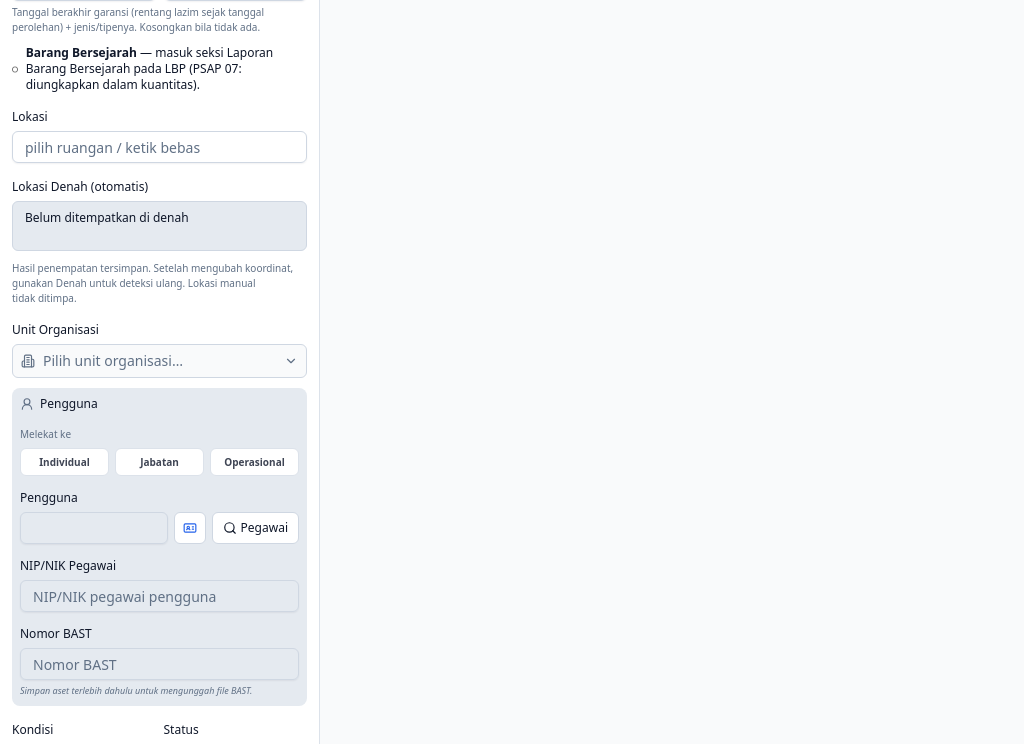
pemicunya ikut menyebut yang baru dipilih
This screenshot has width=1024, height=744.
(page scrolled)
Click the button with test id "asset-unit-pemicu".
click(160, 361)  # box [12,344,307,378]
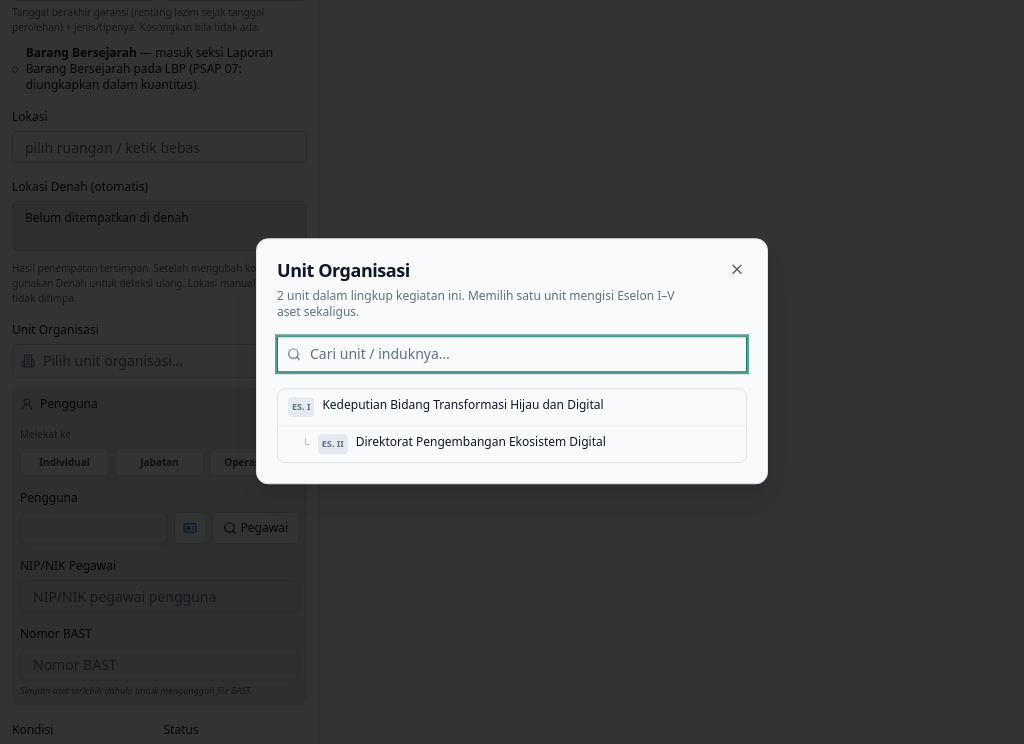
Click the button with test id "asset-unit-opsi-k2".
click(512, 407)  # box [278,389,746,425]
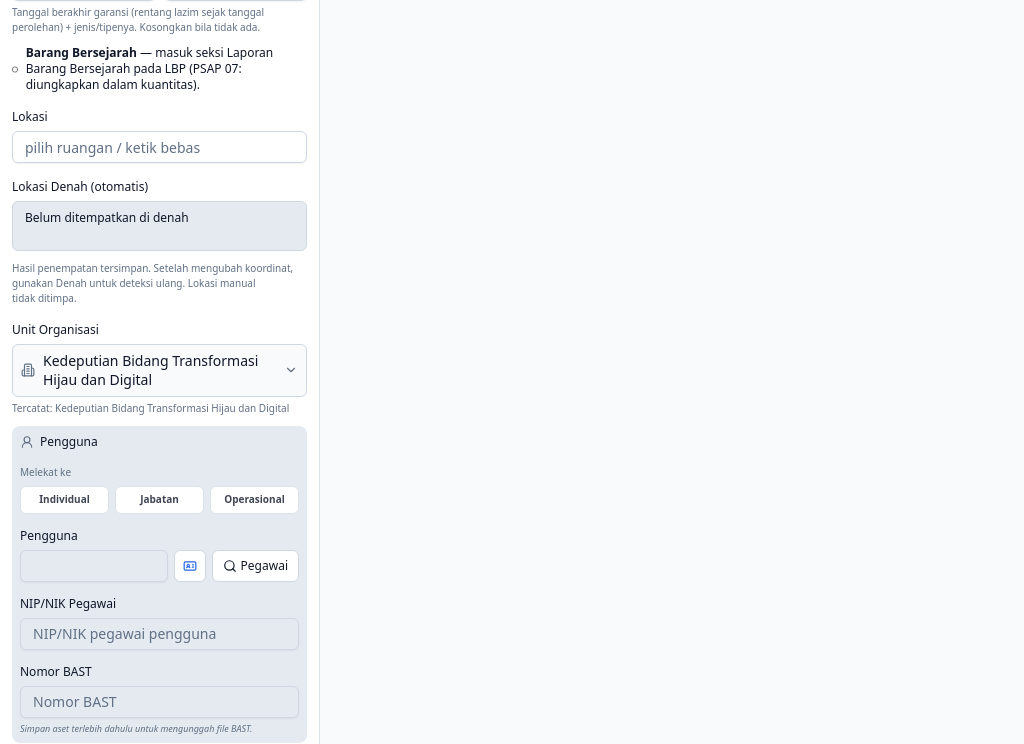
Check: the button with test id "asset-unit-pemicu" reads "Kedeputian Bidang Transformasi Hijau dan Digital", box [12,344,307,396]
